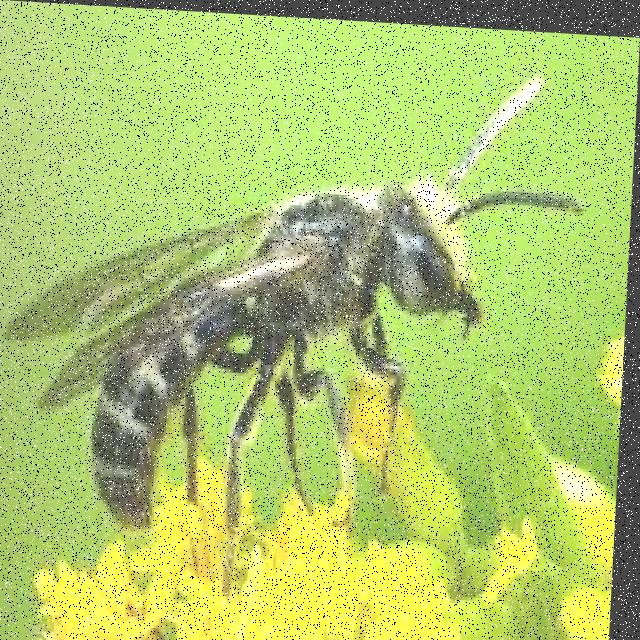Lasioglossum: (4, 31, 589, 569)
